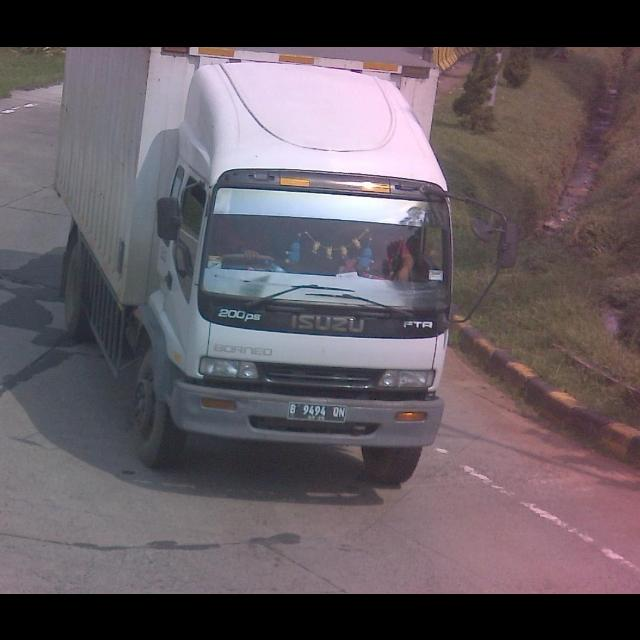plate: (287, 401, 347, 423)
